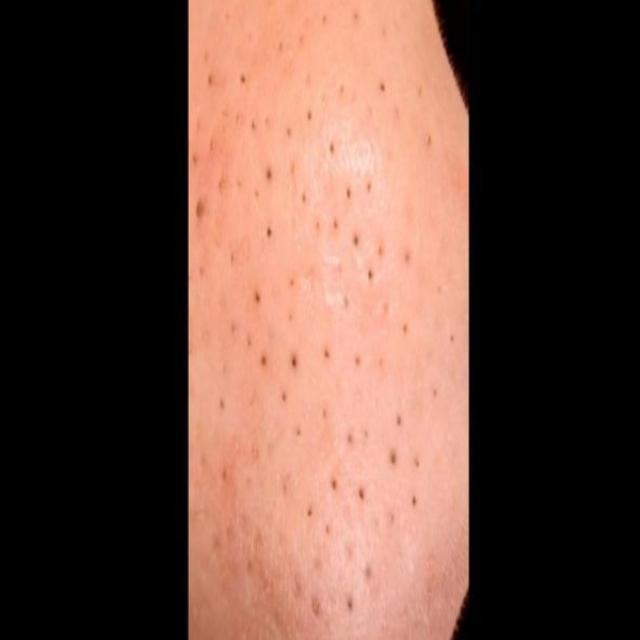blackhead: (221, 34, 478, 640)
